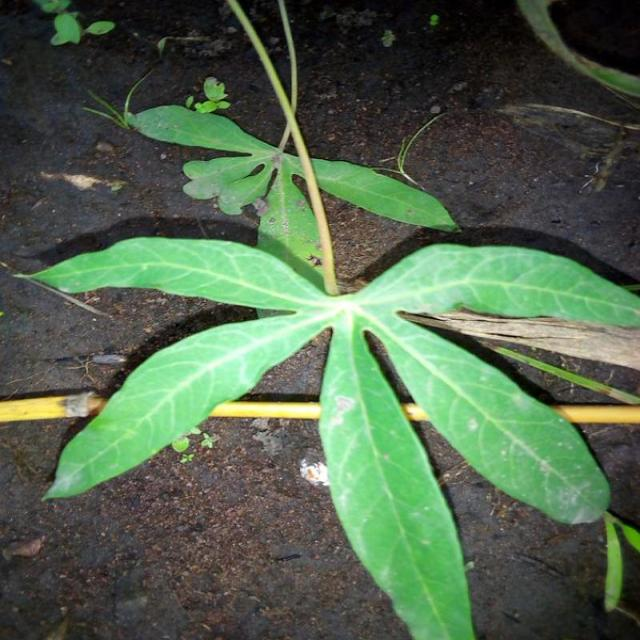cassava leaf: (14, 2, 638, 638)
